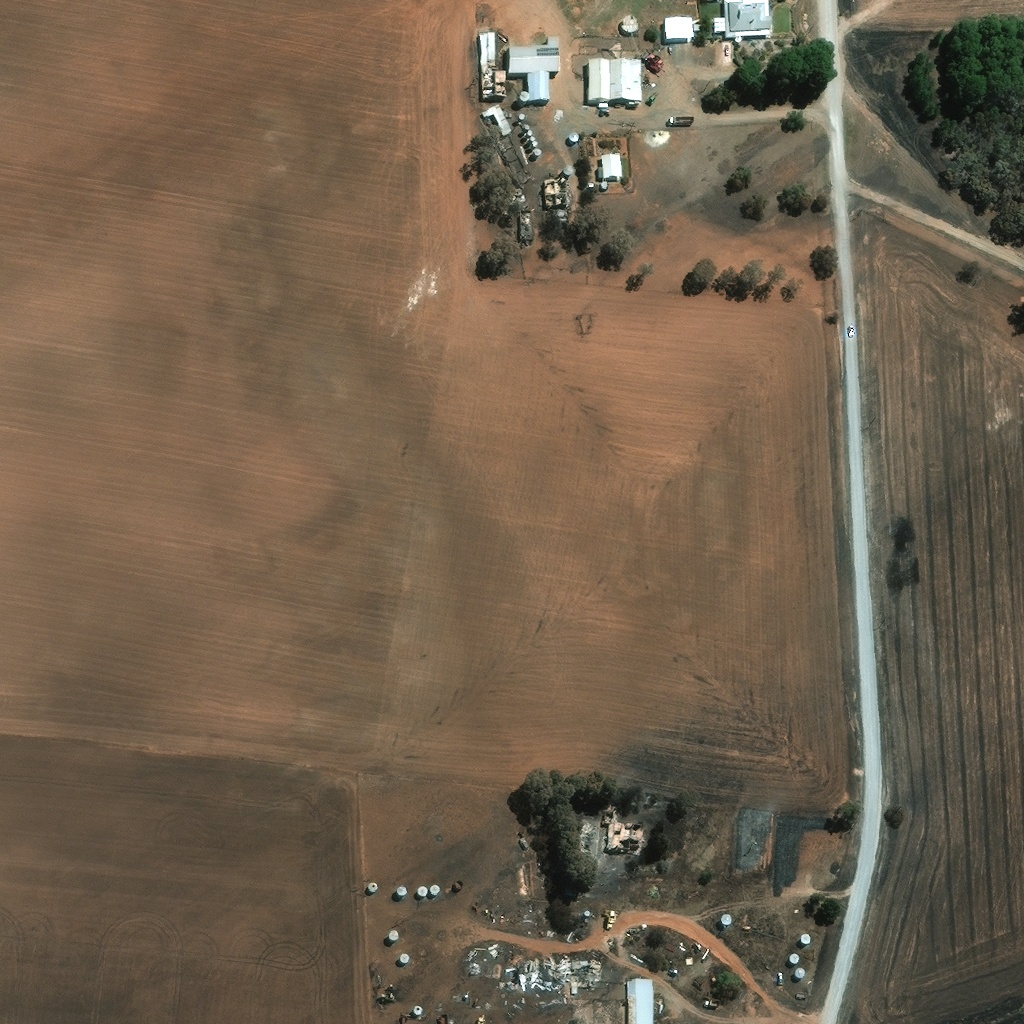0 no-damage: (508, 37, 559, 100), (588, 59, 643, 104), (626, 980, 653, 1023), (482, 102, 512, 138), (597, 152, 622, 177), (665, 16, 693, 37), (734, 35, 742, 42)
2 major-damage: (478, 29, 508, 97)
3 destroyed: (602, 805, 646, 853), (571, 957, 602, 994), (518, 959, 562, 981), (577, 820, 594, 870), (544, 178, 571, 207), (519, 207, 533, 239), (510, 183, 527, 207)
